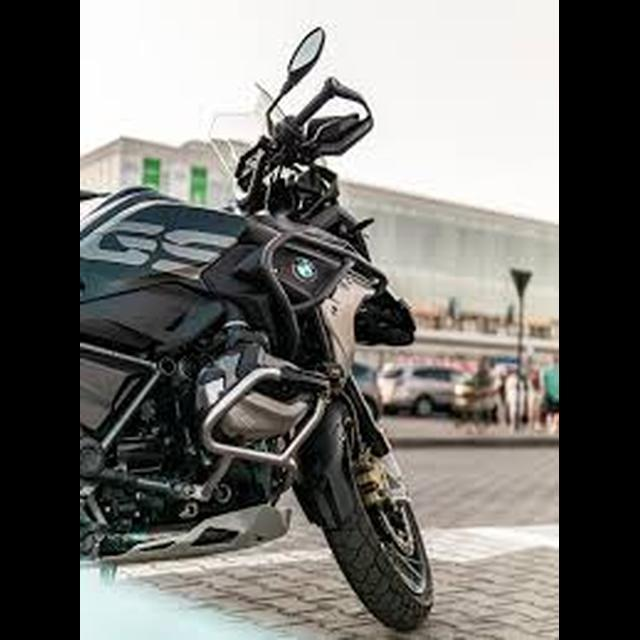motorcycle: (89, 23, 440, 633)
